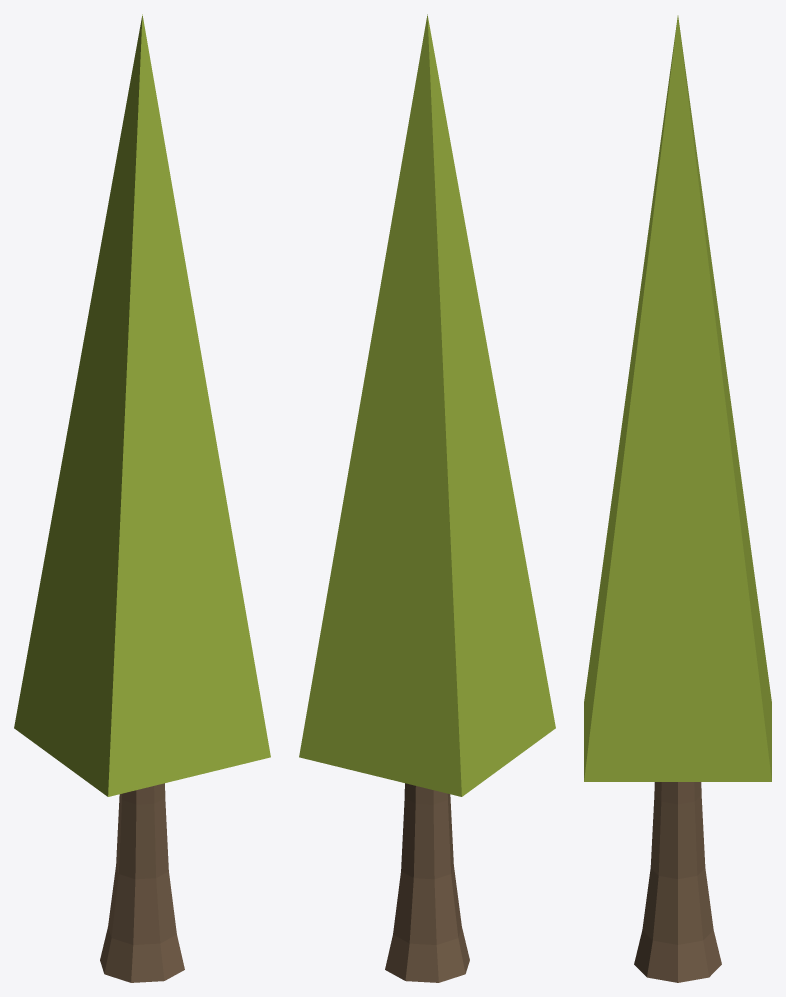
Rendered from NHP_Tree_LP_E1_8m_01.fbx.
The picture shows the model from 3 angles, left to right: view 1: azimuth 30°, elevation 25°; view 2: azimuth 150°, elevation 25°; view 3: azimuth 270°, elevation 25°; orthographic projection.
Visible parts, largest first — view 1: NHP_Tree_LP_E1_8m_01; view 2: NHP_Tree_LP_E1_8m_01; view 3: NHP_Tree_LP_E1_8m_01.
Part boxes in pixels (bbox=[...]): NHP_Tree_LP_E1_8m_01: bbox=[14, 14, 270, 982]; NHP_Tree_LP_E1_8m_01: bbox=[299, 14, 555, 982]; NHP_Tree_LP_E1_8m_01: bbox=[584, 15, 771, 982].
Size of the model in its own units: 1.48 by 8.28 by 1.48.
